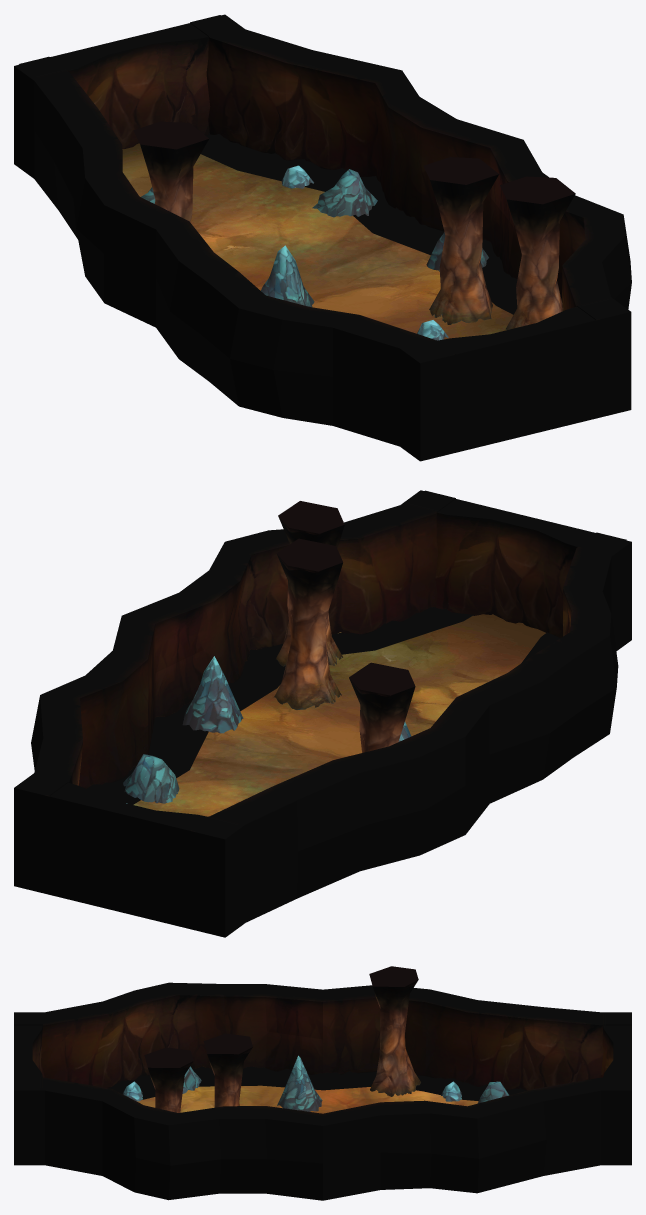
File: Dungeon_demo_Road_005.fbx
3 renders of one model, top to bottom at view 1: azimuth 30°, elevation 25°; view 2: azimuth 150°, elevation 25°; view 3: azimuth 270°, elevation 25°, orthographic. The views are drawn at different scales.
Parts seen in each view (by area): view 1: Dan1, Dun_011_Door_002 (×2), Dan2, Dungeon_011_Object_010 (×3), Dan1_shadow, Dungeon_011_Object_012, Dungeon_011_Object_011; view 2: Dan1, Dun_011_Door_002 (×2), Dan2, Dungeon_011_Object_010 (×3), Dan1_shadow, Dungeon_011_Object_011, Dungeon_011_Object_012; view 3: Dan1, Dungeon_011_Object_010 (×3), Dun_011_Door_002 (×2), Dan1_shadow, Dan2, Dungeon_011_Object_011, Dungeon_011_Object_012.
Boxes of the visible parts, x1,y1,x2,y2 form: Dan1: (14,14,631,461); Dun_011_Door_002 (×2): (19,15,626,452); Dan2: (122,143,513,339); Dungeon_011_Object_010 (×3): (133,121,575,329); Dan1_shadow: (201,134,517,314); Dungeon_011_Object_012: (312,169,377,217); Dungeon_011_Object_011: (261,245,314,307); Dan1: (14,490,631,937); Dun_011_Door_002 (×2): (19,490,626,928); Dan2: (133,614,545,816); Dungeon_011_Object_010 (×3): (274,501,415,752); Dan1_shadow: (86,607,560,804); Dungeon_011_Object_011: (182,656,243,733); Dungeon_011_Object_012: (123,754,179,803); Dan1: (14,982,631,1200); Dungeon_011_Object_010 (×3): (144,966,420,1112); Dun_011_Door_002 (×2): (14,1013,631,1088); Dan1_shadow: (109,1066,526,1101); Dan2: (137,1085,478,1113); Dungeon_011_Object_011: (277,1055,322,1111); Dungeon_011_Object_012: (478,1081,509,1103).
Bounding box in the file's own units: 8.54 × 2.94 × 15.
